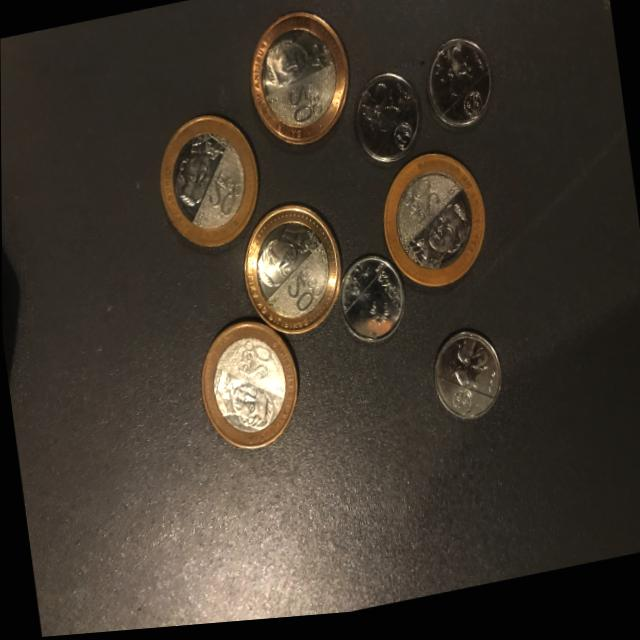20_New_Front: (277, 263, 329, 327), (200, 165, 246, 228), (397, 181, 446, 236), (286, 81, 324, 136)
